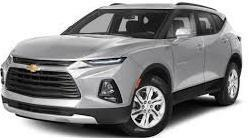SUV: (2, 3, 243, 137)
